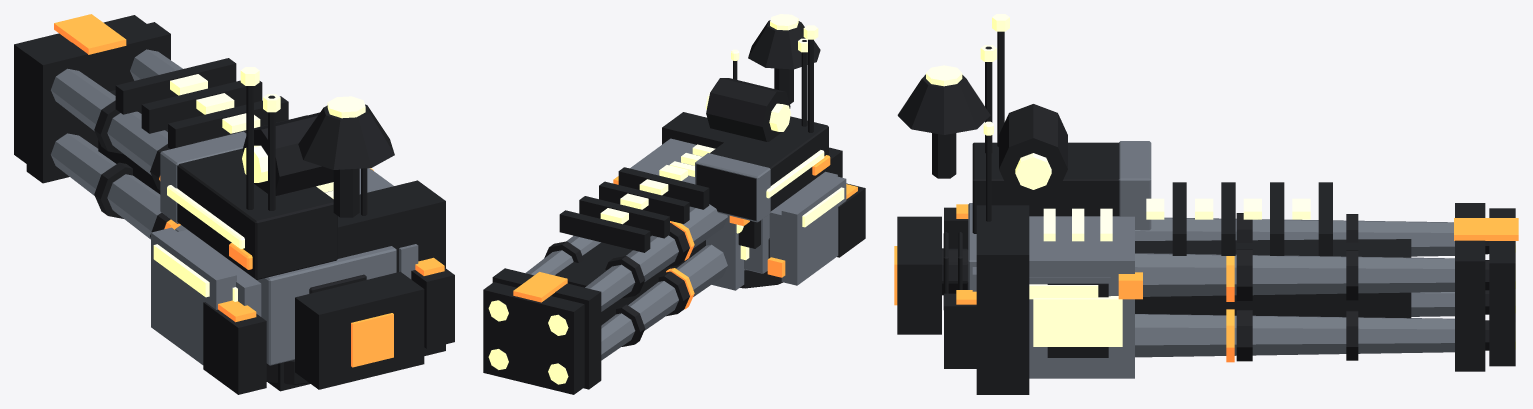
The model's file is tower_siege_turret.glb.
The picture shows the model from 3 angles, left to right: view 1: azimuth 30°, elevation 25°; view 2: azimuth 150°, elevation 25°; view 3: azimuth 270°, elevation 25°; orthographic projection. The views are drawn at different scales.
Parts seen in each view (by area): view 1: TowerSiege_Turret, TowerSiege_Barrel; view 2: TowerSiege_Barrel, TowerSiege_Turret; view 3: TowerSiege_Barrel, TowerSiege_Turret.
Boxes of the visible parts, x1,y1,x2,y2 form: TowerSiege_Turret: (151, 67, 454, 394); TowerSiege_Barrel: (14, 14, 445, 391); TowerSiege_Barrel: (483, 112, 749, 394); TowerSiege_Turret: (695, 14, 865, 288); TowerSiege_Barrel: (976, 182, 1518, 394); TowerSiege_Turret: (894, 14, 1151, 368).
Size of the model in its own units: 0.613 by 0.8 by 1.54.
